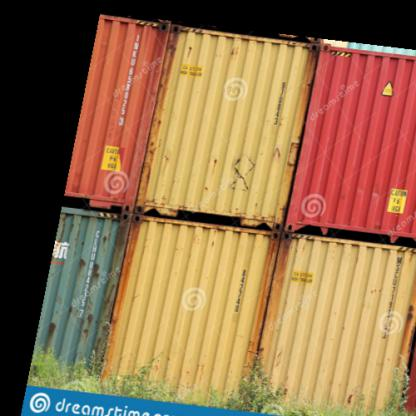Damage: (224, 156, 261, 198)
